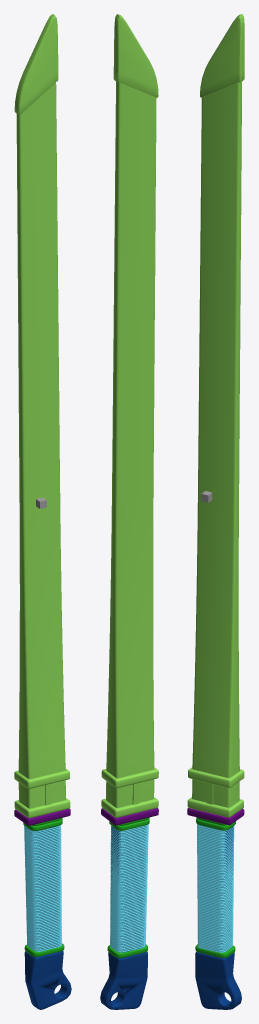
Rendered from sword.obj.
The picture shows the model from 3 angles, left to right: view 1: azimuth 30°, elevation 25°; view 2: azimuth 210°, elevation 25°; view 3: azimuth 330°, elevation 25°; orthographic projection. The views are drawn at different scales.
Visible parts, largest first — view 1: Box009, Spring001, Box011, Cylinder001, Box008, Box010, Box007, Box005, Box004; view 2: Box009, Spring001, Box011, Cylinder001, Box008, Box010, Box007, Box005, Box002, Box004; view 3: Box009, Spring001, Box011, Cylinder001, Box008, Box010, Box007, Box005, Box002, Box004.
Boxes of the visible parts, x1,y1,x2,y2 form: Box009: (16,82,65,808); Spring001: (24,825,61,951); Box011: (14,14,58,114); Cylinder001: (24,951,71,1009); Box008: (14,784,70,818); Box010: (14,769,69,788); Box007: (14,808,70,825); Box005: (24,943,64,956); Box004: (23,819,62,830); Box009: (106,81,156,807); Spring001: (110,824,148,952); Box011: (113,14,158,97); Cylinder001: (100,952,147,1009); Box008: (101,783,158,817); Box010: (101,767,158,788); Box007: (101,808,158,825); Box005: (107,944,147,958); Box002: (111,826,120,875); Box004: (109,818,149,830); Box009: (192,81,241,807); Spring001: (197,824,234,952); Box011: (200,14,244,97); Cylinder001: (195,951,241,1009); Box008: (187,782,243,817); Box010: (188,767,244,787); Box007: (187,808,244,825); Box005: (195,944,235,957); Box002: (224,826,233,883); Box004: (196,818,235,830).
Bounding box in the file's own units: 13.51 × 272 × 8.17.
